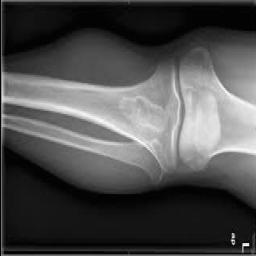cancer: (115, 96, 163, 134)
